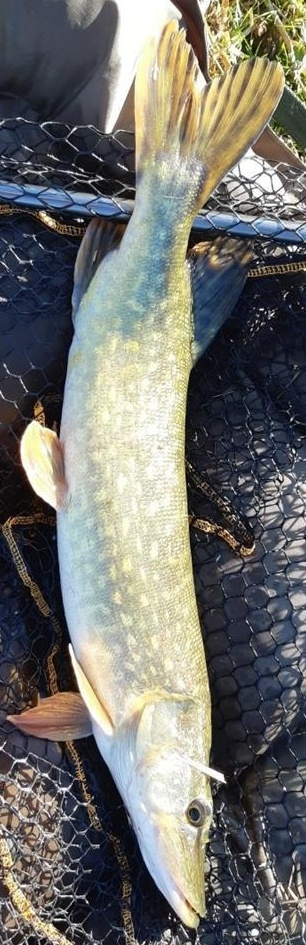Esox lucius: (20, 20, 286, 925)
